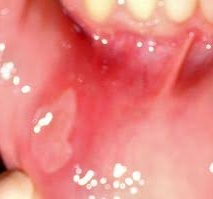Ulcer: (22, 87, 80, 172)
